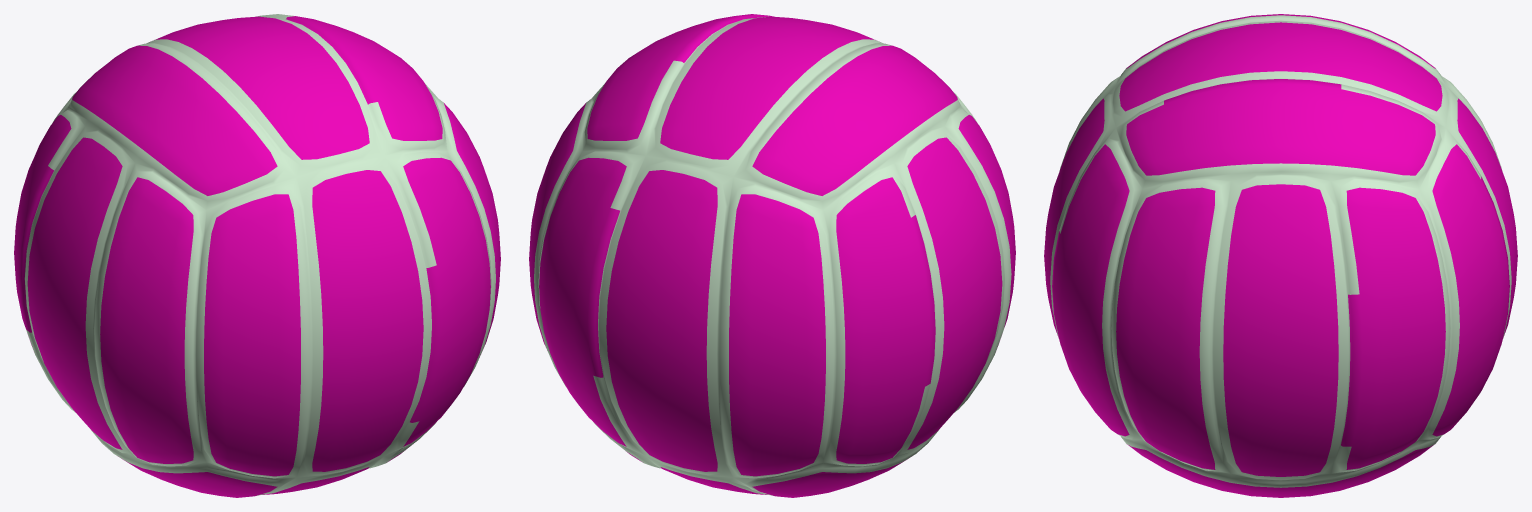
File: voleyboltopupinkkırılmayan.fbx
The picture shows the model from 3 angles, left to right: view 1: azimuth 30°, elevation 25°; view 2: azimuth 150°, elevation 25°; view 3: azimuth 270°, elevation 25°; orthographic projection.
Parts seen in each view (by area): view 1: Cube; view 2: Cube; view 3: Cube.
Boxes of the visible parts, bbox=[...] form: Cube: bbox=[14, 14, 500, 497]; Cube: bbox=[529, 14, 1015, 497]; Cube: bbox=[1044, 14, 1517, 497].
Bounding box in the file's own units: 68.79 × 68.79 × 68.79.
